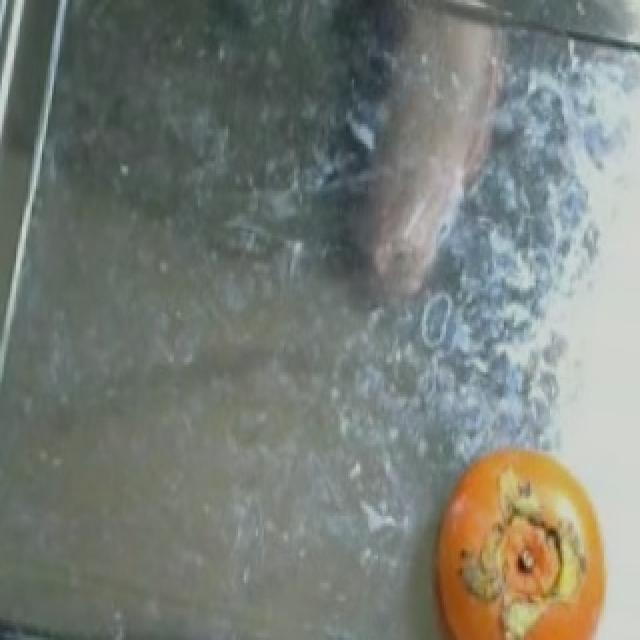Fruit: (402, 429, 634, 638)
